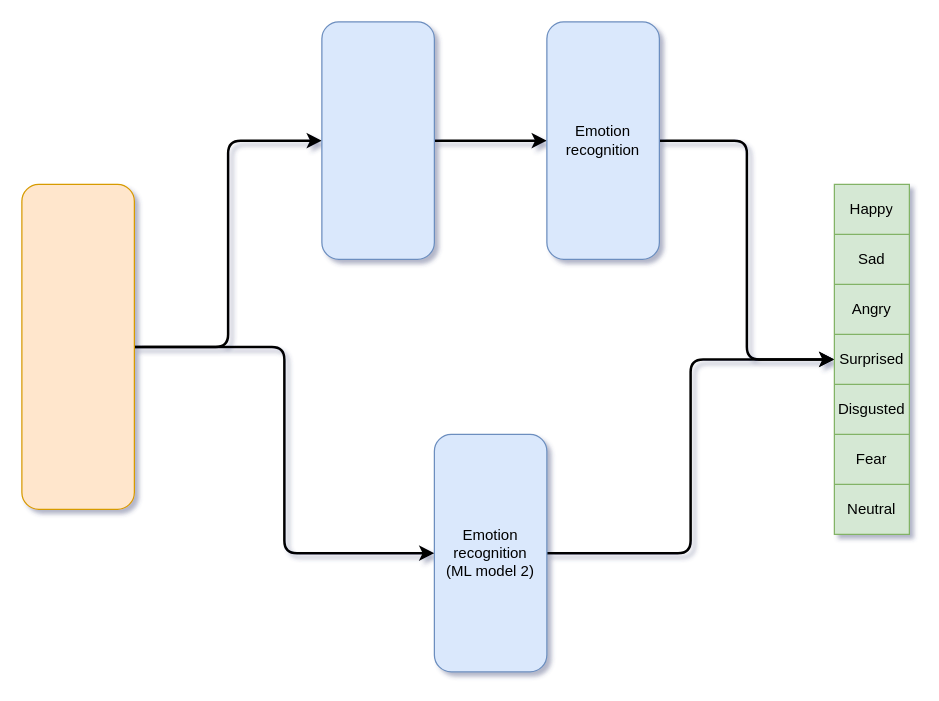
Image size: 939x701. Some labels were removed from this diagram. The shapes that lost their labels are listed below. From the top down, each one's centre as x and y in pixels, then its label:
pixel 377 140: AU recognition (ML model 1)
pixel 77 346: Raw blendshapes
